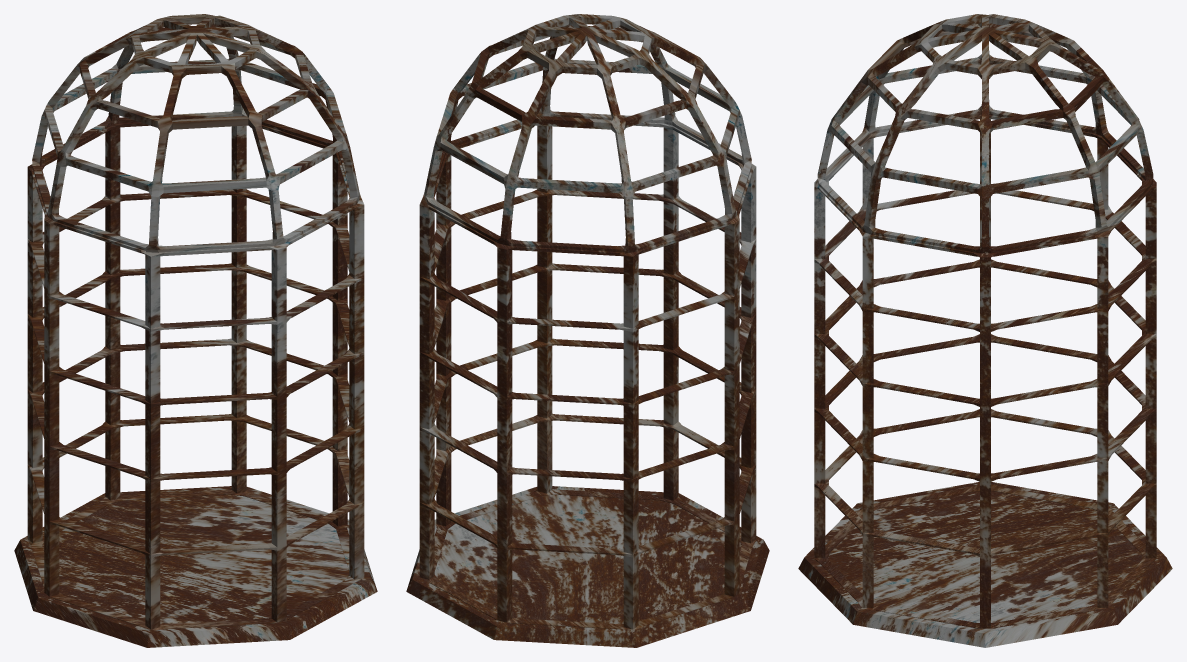
The model's file is Cage_Dungeon.glb.
3 renders of one model, left to right at view 1: azimuth 30°, elevation 25°; view 2: azimuth 150°, elevation 25°; view 3: azimuth 270°, elevation 25°, orthographic.
Visible parts, largest first — view 1: Cage-col; view 2: Cage-col; view 3: Cage-col.
Part boxes in pixels (x1,y1,x2,y2): Cage-col: (14,14,377,647); Cage-col: (406,14,769,647); Cage-col: (798,14,1172,647).
Size of the model in its own units: 1.35 by 2.13 by 1.35.
2 materials, 2 textured.
